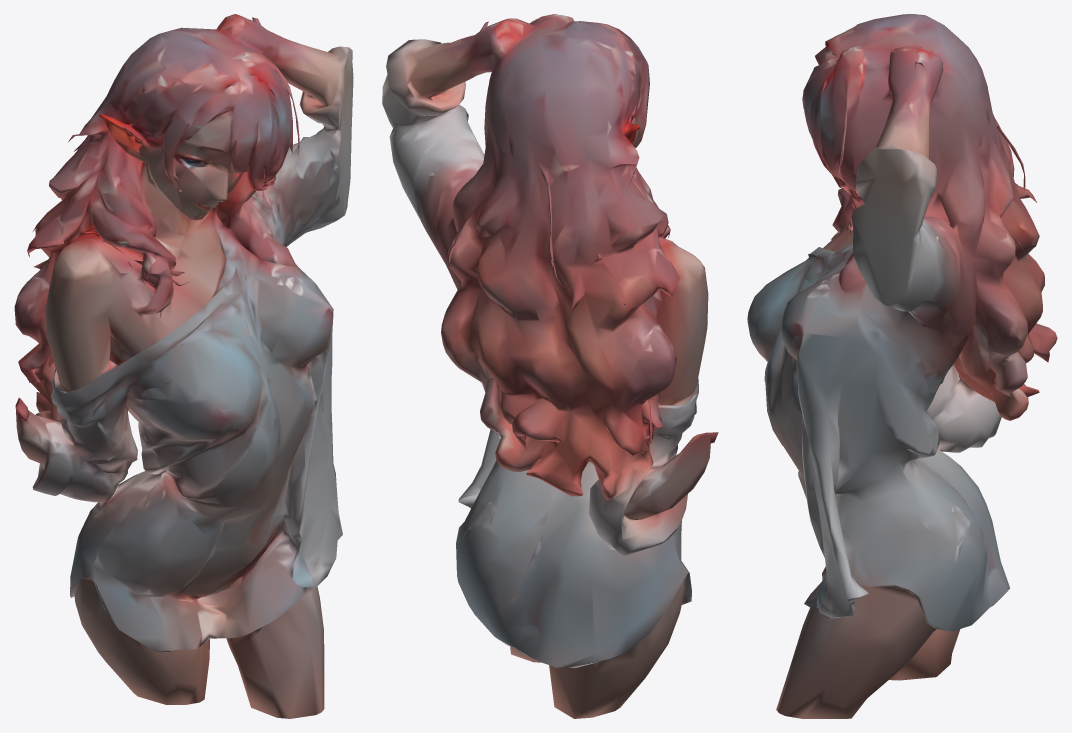
The model's file is 01a1b77a-d85a-7401-a19b-cd574cbccac6.glb.
The picture shows the model from 3 angles, left to right: view 1: azimuth 30°, elevation 25°; view 2: azimuth 150°, elevation 25°; view 3: azimuth 270°, elevation 25°; orthographic projection. The views are drawn at different scales.
Parts seen in each view (by area): view 1: model; view 2: model; view 3: model.
Part boxes in pixels (box(x1,y1,x2,y2)): model: box(14, 14, 353, 718); model: box(382, 14, 718, 718); model: box(747, 14, 1057, 718).
Bounding box in the file's own units: 0.8844 × 1.65 × 0.705.
